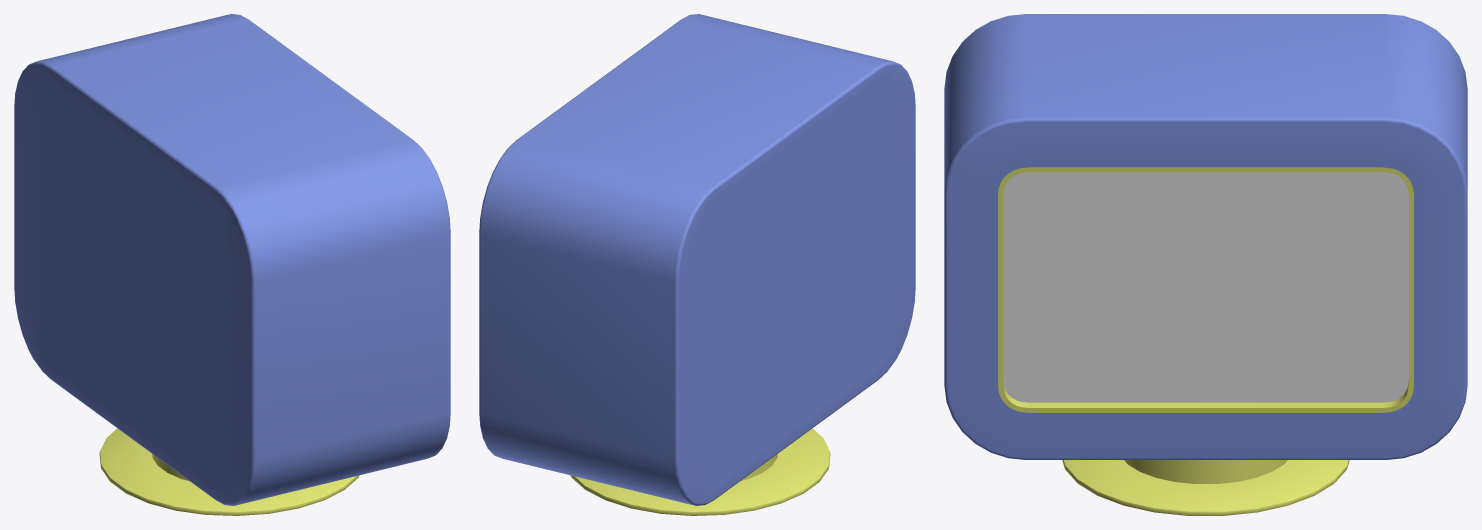
The model's file is computer_monitor.glb.
The picture shows the model from 3 angles, left to right: view 1: azimuth 30°, elevation 25°; view 2: azimuth 150°, elevation 25°; view 3: azimuth 270°, elevation 25°; orthographic projection. The views are drawn at different scales.
Parts seen in each view (by area): view 1: Computer_Monitor__Body, Computer_Monitor_Base; view 2: Computer_Monitor__Body, Computer_Monitor_Base; view 3: Computer_Monitor__Body, Computer_Monitor_Screen, Computer_Monitor_Base, Computer_Monitor_Screen_Frame.
Part boxes in pixels (box(x1,y1,x2,y2)): Computer_Monitor__Body: box(14, 14, 450, 505); Computer_Monitor_Base: box(99, 428, 359, 515); Computer_Monitor__Body: box(479, 14, 915, 505); Computer_Monitor_Base: box(570, 428, 830, 515); Computer_Monitor__Body: box(944, 14, 1467, 459); Computer_Monitor_Screen: box(1003, 172, 1408, 402); Computer_Monitor_Base: box(1062, 460, 1349, 515); Computer_Monitor_Screen_Frame: box(998, 167, 1413, 412).
Size of the model in its own units: 3.27 by 4.87 by 5.93.
